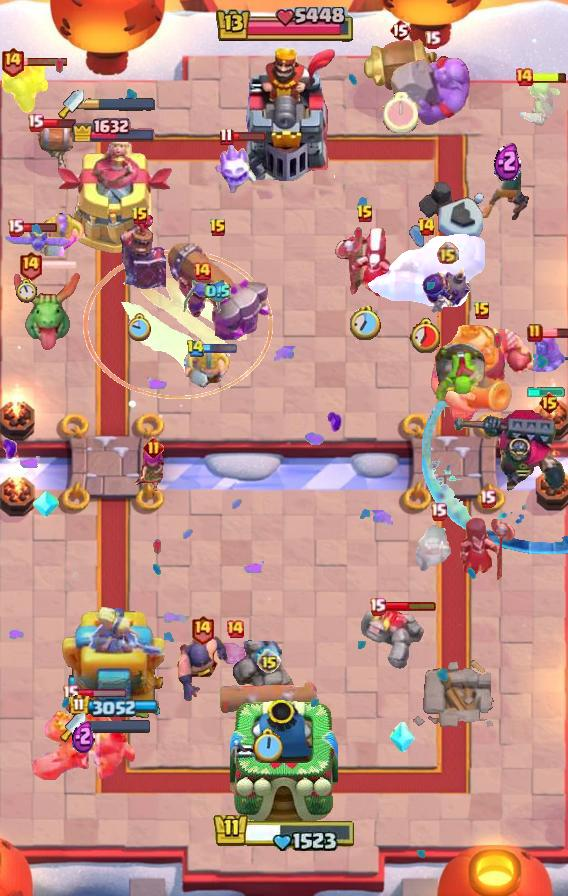archer: (132, 450, 174, 496)
bandit: (482, 168, 532, 224), (413, 522, 463, 574)
bar: (384, 600, 437, 612), (17, 56, 69, 67), (77, 688, 128, 699), (532, 71, 568, 84), (41, 259, 78, 271), (42, 117, 77, 129), (21, 222, 58, 233), (202, 343, 238, 354), (231, 131, 267, 142), (540, 327, 568, 339)
bar-level: (190, 614, 215, 645), (18, 250, 43, 281), (0, 46, 25, 77), (257, 650, 281, 674), (538, 391, 561, 415), (436, 242, 459, 265), (389, 18, 411, 42), (143, 437, 164, 458), (225, 619, 245, 639), (192, 261, 212, 281), (514, 67, 534, 87), (417, 217, 436, 237), (186, 339, 205, 358), (473, 301, 491, 321), (209, 218, 227, 238), (131, 206, 149, 226), (356, 204, 374, 224), (62, 684, 79, 703), (369, 597, 386, 616), (430, 502, 447, 521), (479, 489, 496, 508), (7, 218, 24, 237), (27, 113, 44, 132), (424, 30, 441, 49), (527, 323, 543, 343), (219, 127, 234, 146)
barbarian-barrel: (360, 39, 440, 93)
bat-evolution: (0, 231, 72, 257), (182, 278, 222, 316)
bomber-evolution: (421, 267, 473, 323)
clock: (383, 92, 418, 133), (409, 317, 443, 353), (253, 728, 285, 765), (350, 306, 381, 340), (128, 313, 152, 341), (16, 279, 37, 303)
dagger-duchess-tower: (55, 142, 173, 256), (60, 607, 168, 731)
dagger-duchess-tower-bar: (84, 97, 156, 111), (86, 720, 150, 733)
elite-barbarian: (37, 213, 86, 256), (183, 345, 231, 388)
elixir: (494, 140, 521, 181), (72, 718, 95, 753), (205, 280, 231, 303)
executioner: (176, 634, 228, 706)
goblin: (518, 74, 562, 129)
goblin-ball: (432, 342, 486, 404)
golemite: (233, 640, 299, 702), (360, 610, 424, 670), (0, 62, 52, 114)
ice-spirit-evolution: (213, 141, 257, 195)
ice-spirit-evolution-symbol: (31, 489, 61, 519), (390, 722, 416, 754)
king-tower: (230, 45, 338, 181), (230, 698, 338, 826)
king-tower-bar: (212, 809, 356, 851), (214, 7, 355, 45)
lava-pup: (222, 637, 248, 665)
night-witch: (333, 228, 397, 300), (458, 513, 516, 583)
the-log: (218, 679, 320, 719)
tower-bar: (71, 115, 157, 142), (69, 694, 159, 717)
wall-breaker: (23, 119, 73, 173)
wizard: (531, 329, 567, 375)
